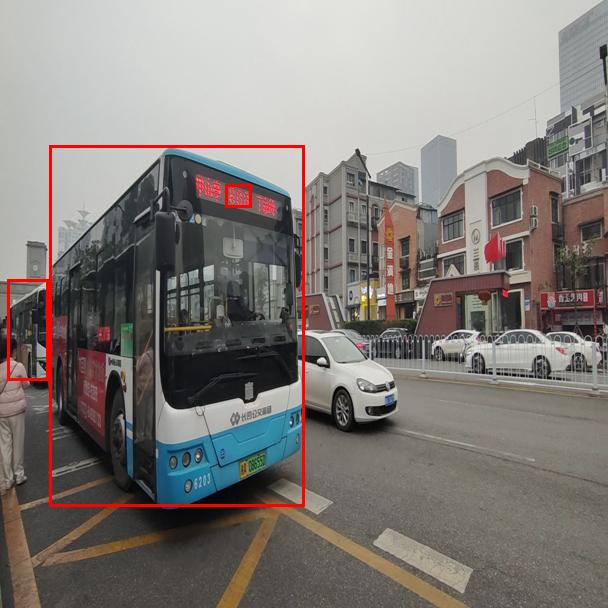bus: (49, 145, 304, 506), (7, 279, 48, 380)
screen: (225, 184, 251, 207)
